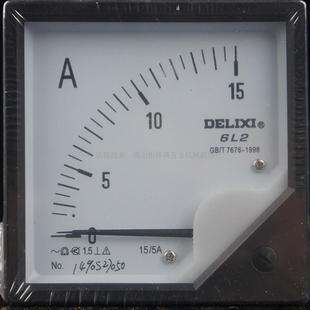pointer: (17, 15, 289, 291)
